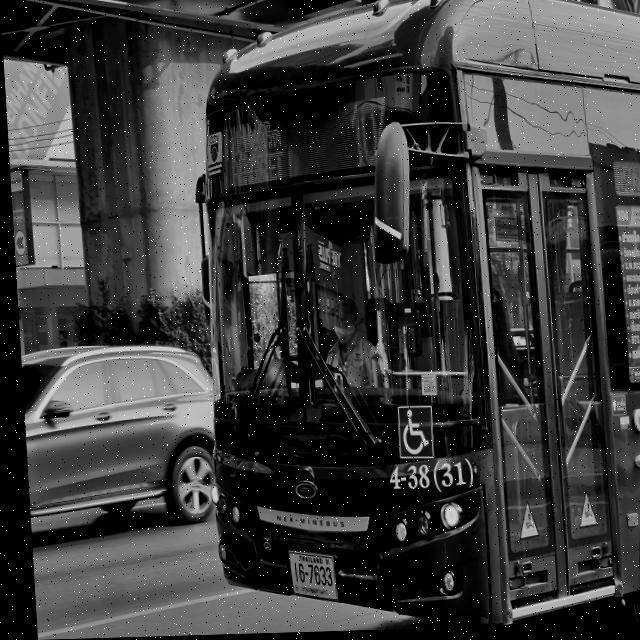Bus Line Number: (346, 97, 393, 171)
Bus Side Number: (375, 456, 474, 498)
Destination Sign: (220, 114, 287, 189)
TSB-Bus: (170, 0, 640, 636)
